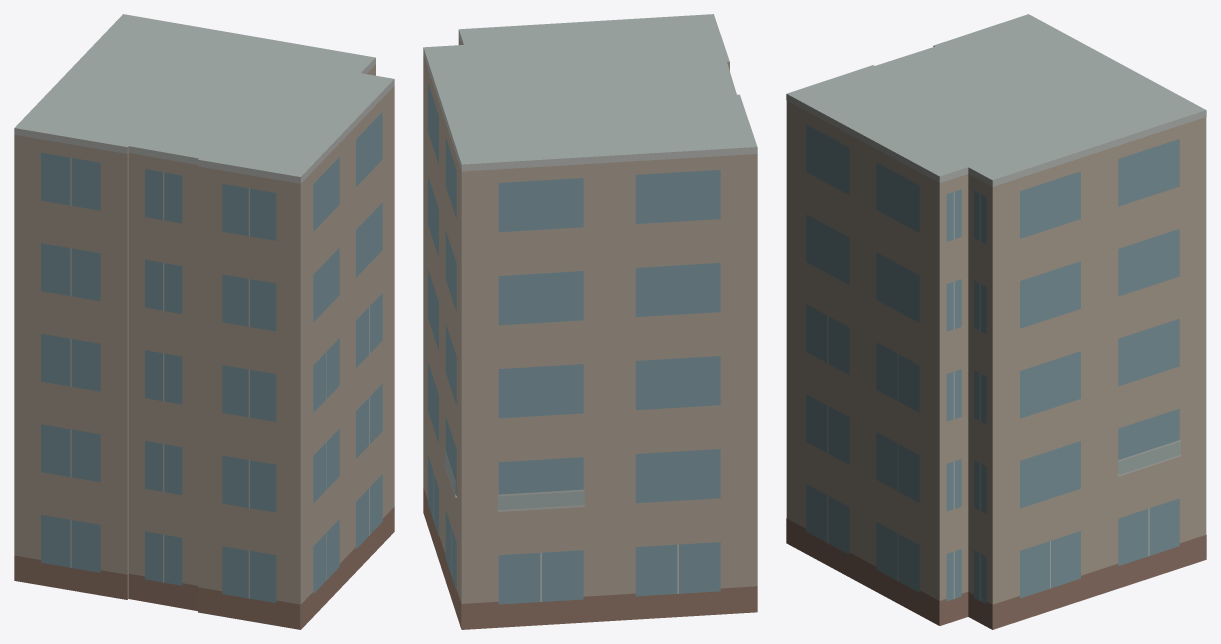
File: survey-upis-32900764.glb
The picture shows the model from 3 angles, left to right: view 1: azimuth 30°, elevation 25°; view 2: azimuth 150°, elevation 25°; view 3: azimuth 270°, elevation 25°; orthographic projection. The views are drawn at different scales.
Visible parts, largest first — view 1: survey-upis-32900764.tmp; view 2: survey-upis-32900764.tmp; view 3: survey-upis-32900764.tmp.
Part boxes in pixels (bbox=[...]): survey-upis-32900764.tmp: bbox=[14, 14, 394, 629]; survey-upis-32900764.tmp: bbox=[423, 14, 757, 629]; survey-upis-32900764.tmp: bbox=[786, 14, 1206, 629].
Bounding box in the file's own units: 13 × 16.38 × 13.87.
